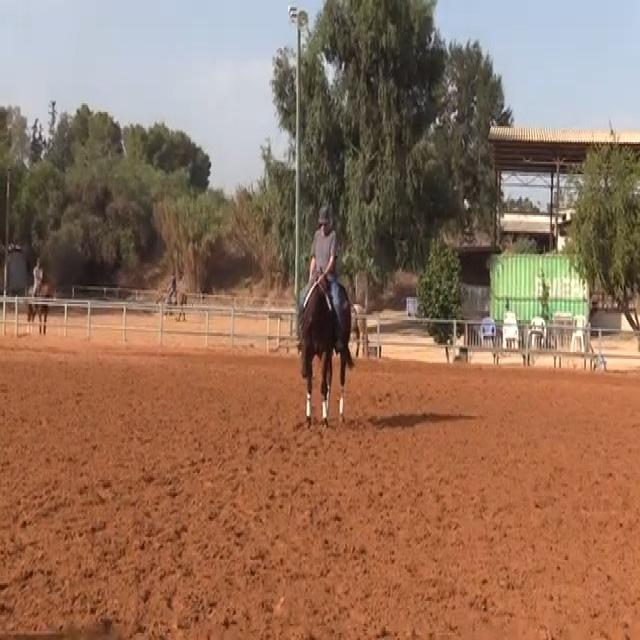horse: (297, 272, 356, 430)
